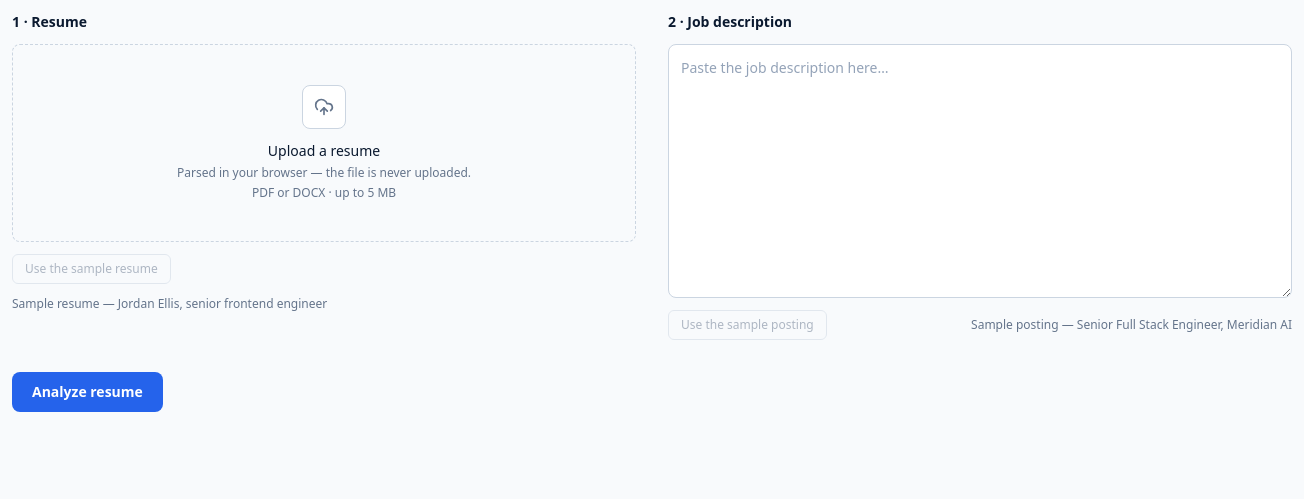
Test: gate failures render safe copy only › never renders a result alongside a failure
The image size is (1304, 499).
Click the button "Analyze resume": (87, 392) [12,372,163,412]
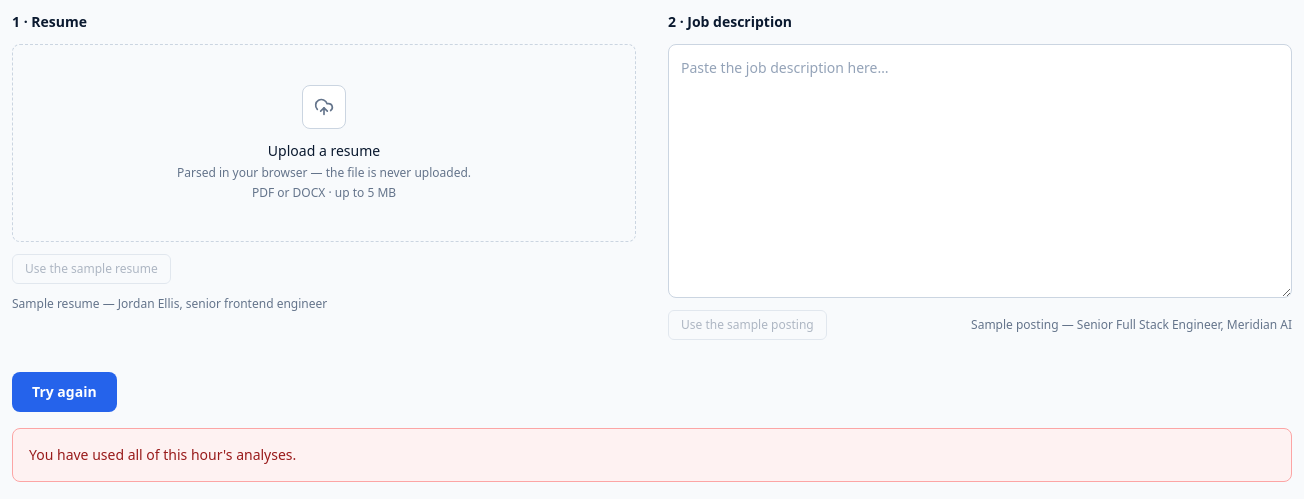
Expected: the message "You have used all of this hour's analyses." is shown, [12,428,1292,482]
